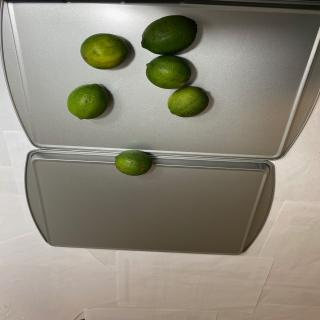Lemon: (140, 15, 198, 55), (80, 33, 129, 69), (146, 55, 192, 89), (67, 83, 109, 120), (167, 86, 209, 117), (115, 149, 152, 176)
